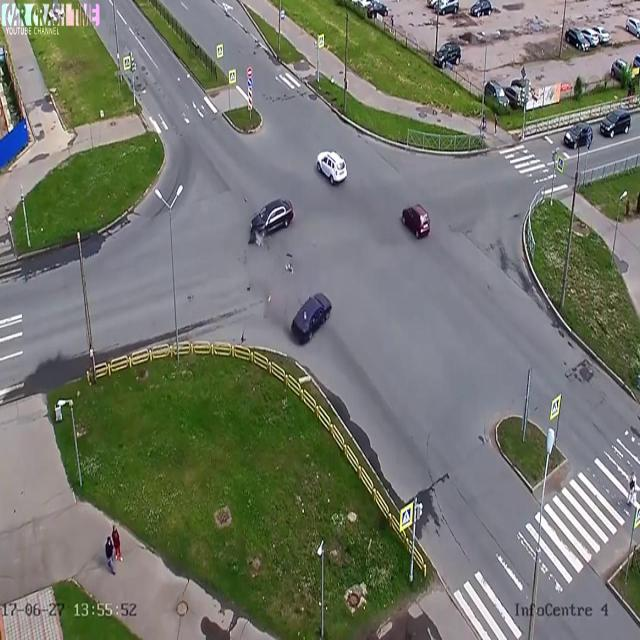accident: (246, 188, 302, 256)
